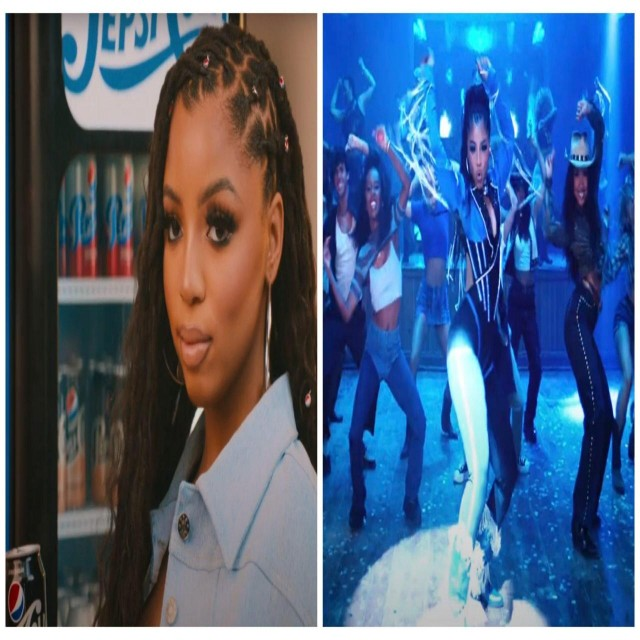pepsi: (5, 577, 26, 626)
